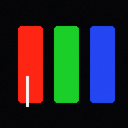4 line_v: (26, 76, 28, 106)
